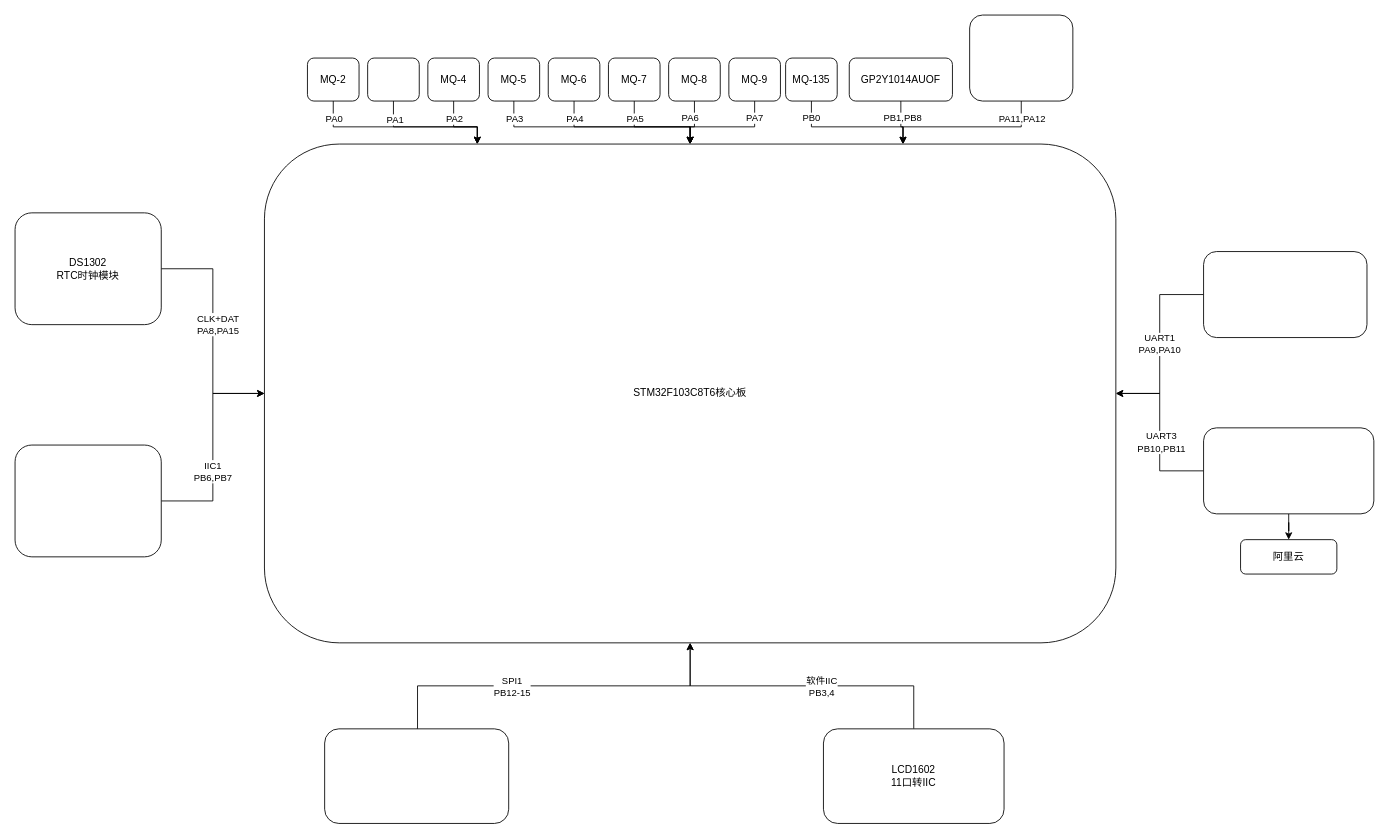
Image size: 1389x839. Some labels were removed from this diagram. Each missing label, with the centre of its shape:
DHT22: the point at 87,500
ESP8266-01: the point at 1288,470
MQ-3: the point at 393,79
SPI Flash W25Q32: the point at 416,775
USB模拟U盘 托拽烧录: the point at 1021,57
调试串口: the point at 1285,294
